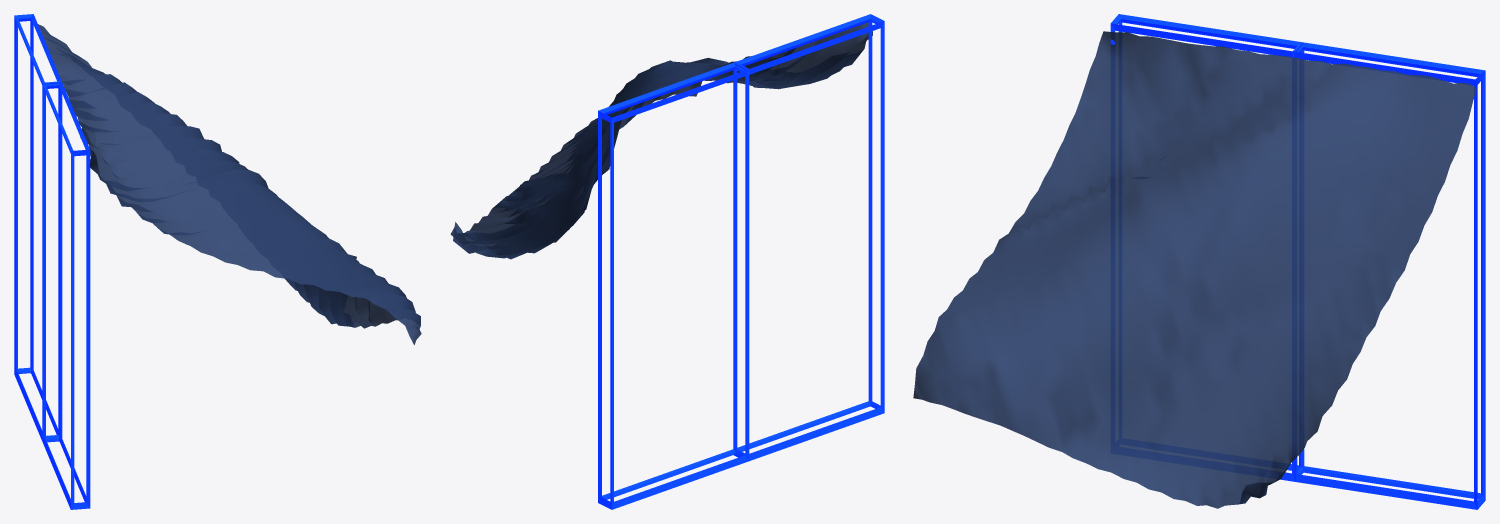
The model's file is wireframewindowv4.glb.
The picture shows the model from 3 angles, left to right: view 1: azimuth 30°, elevation 25°; view 2: azimuth 150°, elevation 25°; view 3: azimuth 270°, elevation 25°; orthographic projection. The views are drawn at different scales.
Visible parts, largest first — view 1: Plane.002, Cube.001; view 2: Cube.001, Plane.002; view 3: Plane.002, Cube.001.
Boxes of the visible parts, left/top/right/bottom form: Plane.002: left=38, top=24, right=421, bottom=344; Cube.001: left=14, top=14, right=90, bottom=509; Cube.001: left=598, top=14, right=884, bottom=509; Plane.002: left=450, top=22, right=872, bottom=259; Plane.002: left=913, top=31, right=1476, bottom=508; Cube.001: left=1110, top=14, right=1485, bottom=509.
Size of the model in its own units: 17.09 by 17.27 by 20.82.
